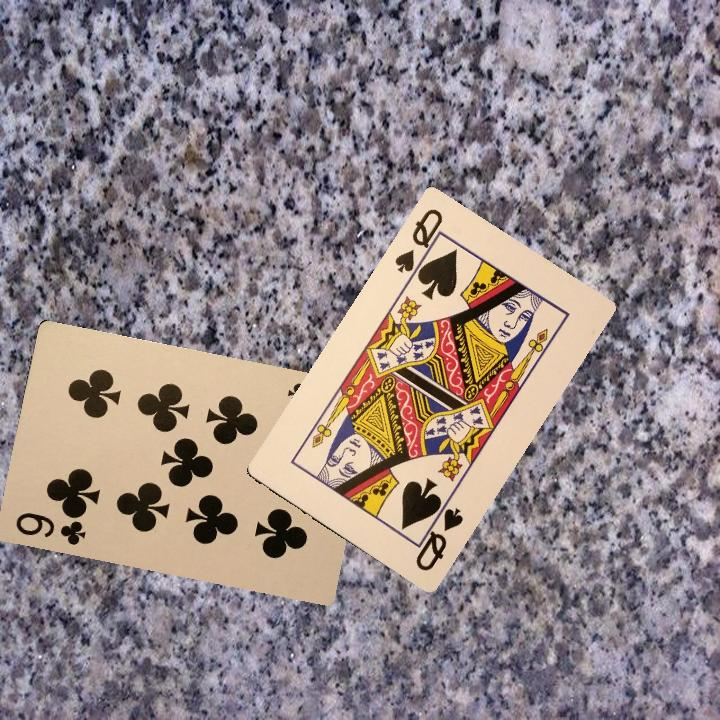9c: (11, 508, 88, 548)
Qs: (390, 204, 447, 282), (411, 495, 466, 574)
